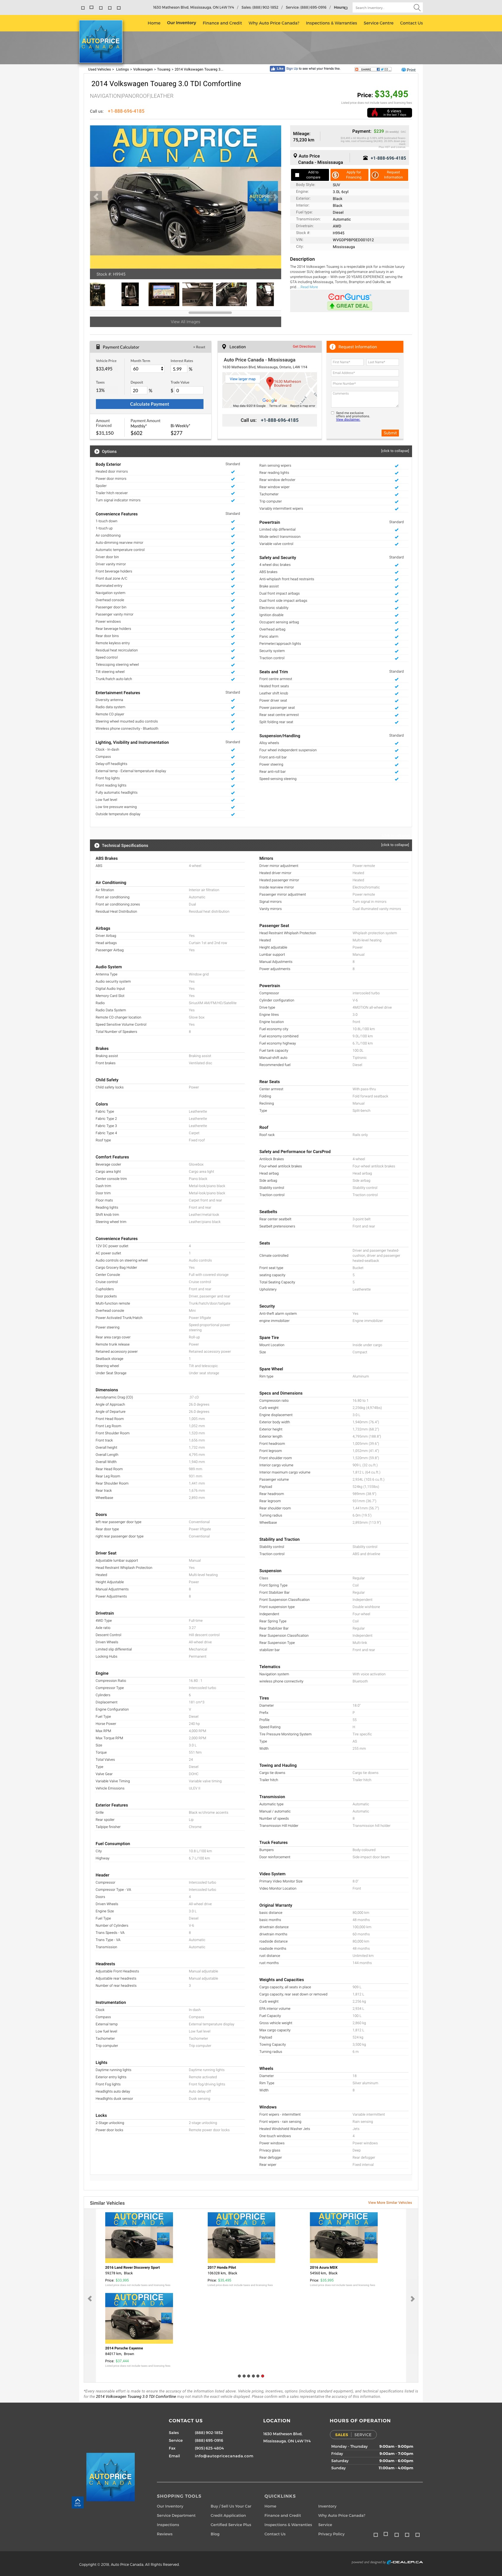car: (269, 191, 282, 204)
